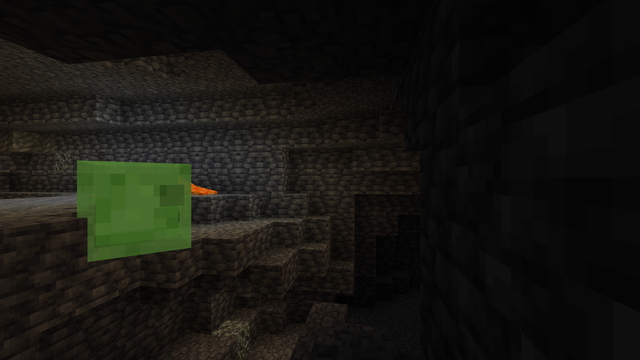slimes: (56, 157, 203, 260)
